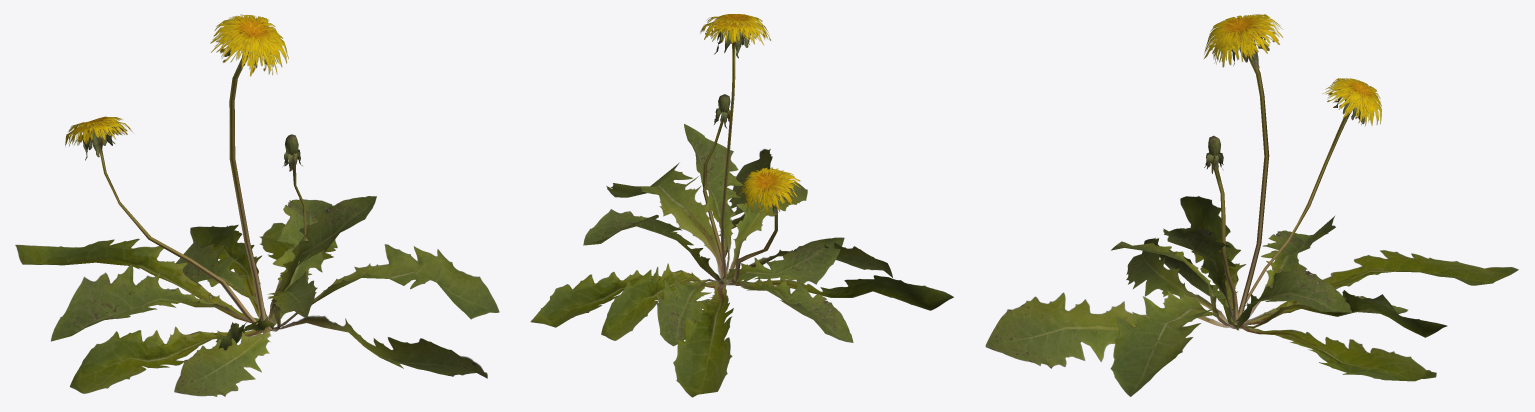
File: dandelion_01.glb
3 views of the same model, side by side, from view 1: azimuth 30°, elevation 25°; view 2: azimuth 150°, elevation 25°; view 3: azimuth 270°, elevation 25° (orthographic). The views are drawn at different scales.
Visible parts, largest first — view 1: dandelion_01_a_LOD1; view 2: dandelion_01_a_LOD1; view 3: dandelion_01_a_LOD1.
Part boxes in pixels (x1=…): dandelion_01_a_LOD1: x1=15, y1=14, x2=499, y2=396; dandelion_01_a_LOD1: x1=530, y1=14, x2=953, y2=397; dandelion_01_a_LOD1: x1=985, y1=14, x2=1518, y2=396.
Bounding box in the file's own units: 0.2204 × 0.1617 × 0.2577.
Materials: 1 (1 with a texture image).
